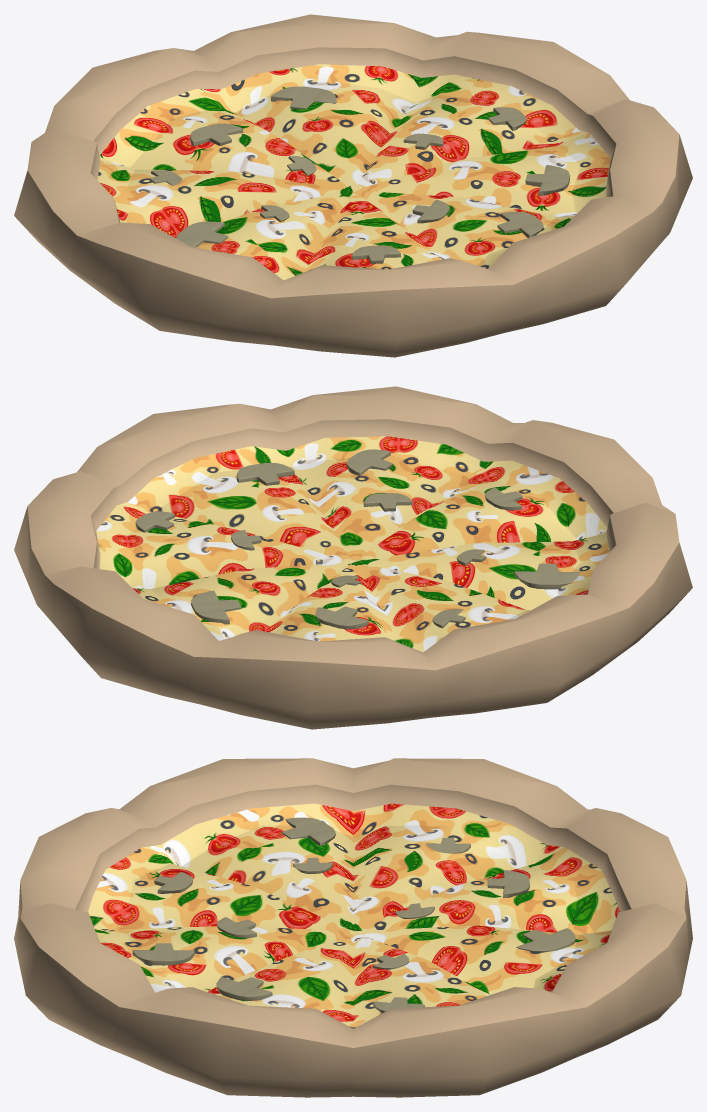
The model's file is pizza_2.fbx.
The picture shows the model from 3 angles, top to bottom: view 1: azimuth 30°, elevation 25°; view 2: azimuth 150°, elevation 25°; view 3: azimuth 270°, elevation 25°; orthographic projection. The views are drawn at different scales.
Visible parts, largest first — view 1: pCylinder14; view 2: pCylinder14; view 3: pCylinder14.
Part boxes in pixels (x1,y1,x2,y2): pCylinder14: (14,14,692,357); pCylinder14: (14,386,692,729); pCylinder14: (14,758,692,1097).
Bounding box in the file's own units: 1.97 × 0.2833 × 1.97.
